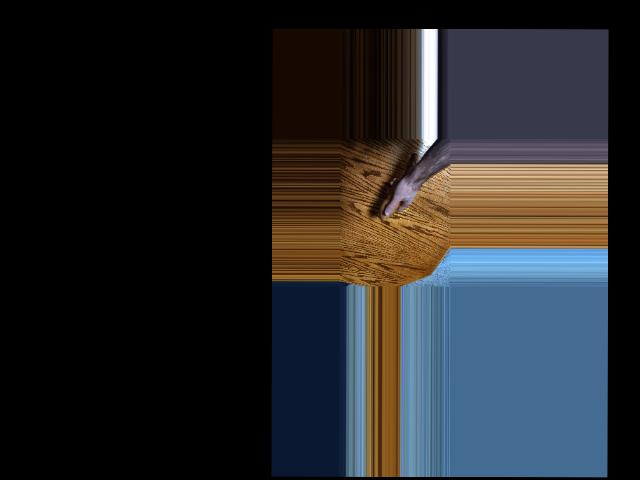sweet_potato: (378, 141, 419, 222)
